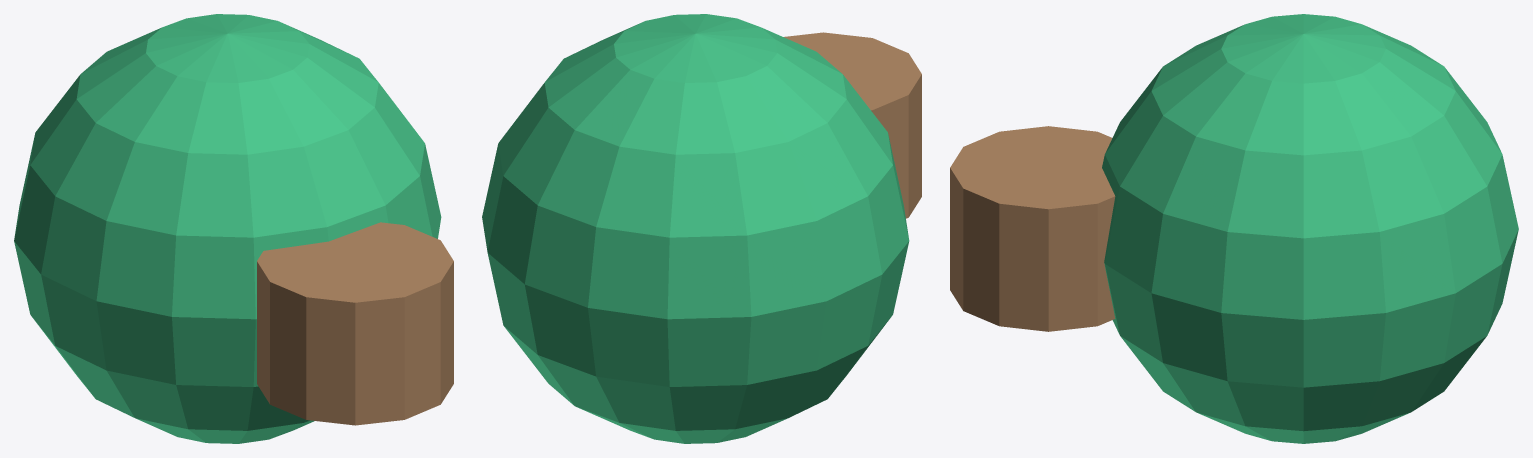
File: tree.glb
3 views of the same model, side by side, from view 1: azimuth 30°, elevation 25°; view 2: azimuth 150°, elevation 25°; view 3: azimuth 270°, elevation 25° (orthographic).
Parts seen in each view (by area): view 1: leaves, pot; view 2: leaves, pot; view 3: leaves, pot.
Part boxes in pixels (x1,y1,x2,y2): leaves: [14, 14, 441, 443]; pot: [257, 222, 453, 425]; leaves: [482, 14, 909, 443]; pot: [784, 32, 921, 218]; leaves: [1102, 14, 1518, 443]; pot: [950, 126, 1115, 331].
Size of the model in its own units: 1.4 by 1.4 by 1.85.
